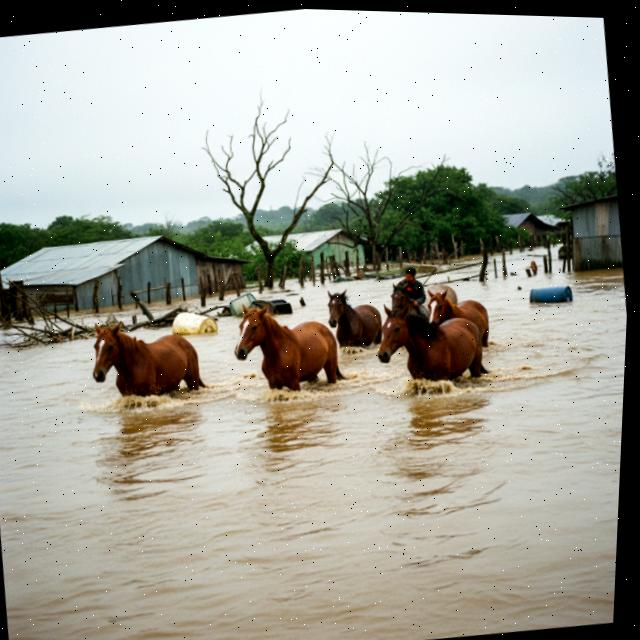civilian: (386, 263, 427, 313)
horse: (213, 289, 352, 411), (79, 301, 215, 415), (369, 301, 491, 400), (410, 283, 501, 357), (313, 282, 387, 356), (378, 280, 416, 319)
